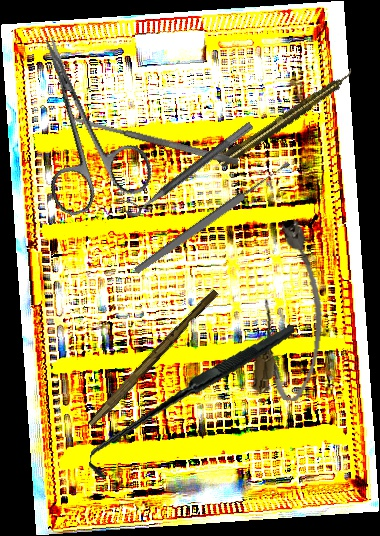Cannula: (250, 217, 335, 404)
Fixation Ring: (118, 111, 255, 221)
Handpiece: (215, 66, 358, 170)
Hook Surgical: (87, 301, 295, 501)
Iris Scissors: (4, 20, 158, 220)
Scalpel Handle: (87, 286, 220, 431)
Spatula Surgical: (72, 114, 240, 167)
Surgical Spoon: (132, 159, 293, 276)
